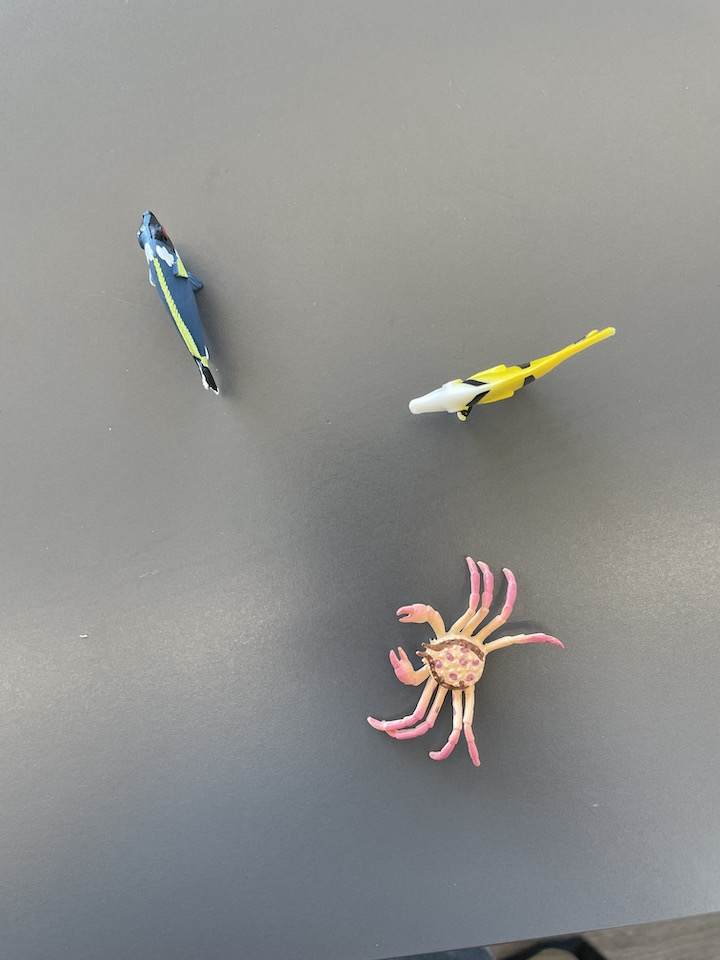crab: (362, 551, 569, 775)
danger: (402, 319, 619, 444)
fish: (128, 204, 229, 403)
